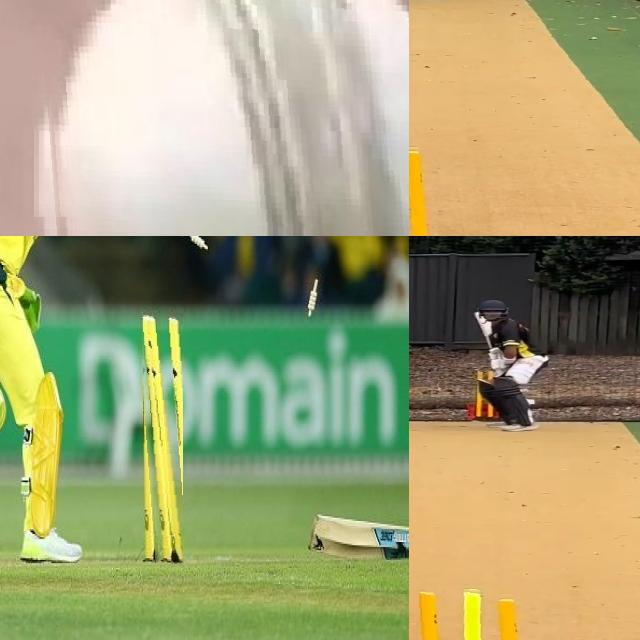Cricket ball: (34, 0, 409, 236)
Stumps: (137, 311, 183, 564), (409, 586, 540, 640)
